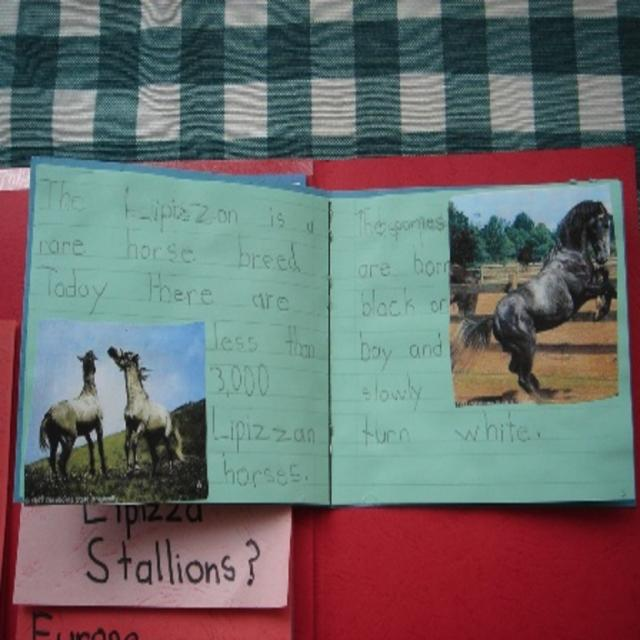Horse: (449, 200, 617, 402), (110, 347, 186, 478), (37, 348, 109, 486)
